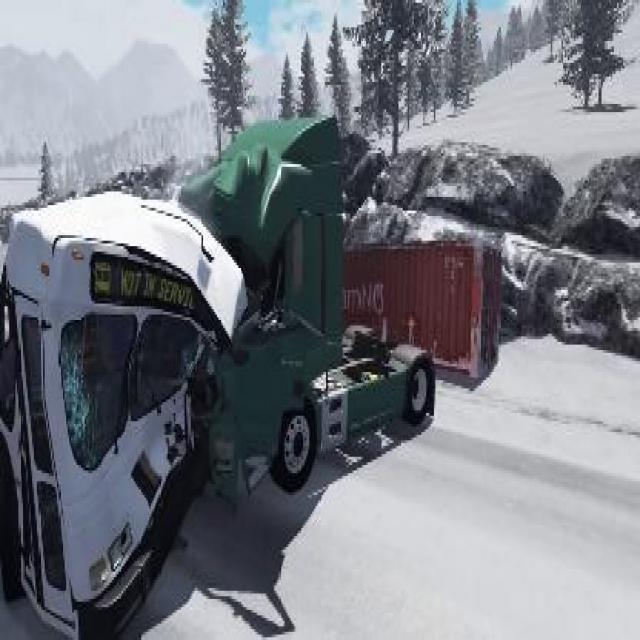accident: (0, 96, 440, 637)
